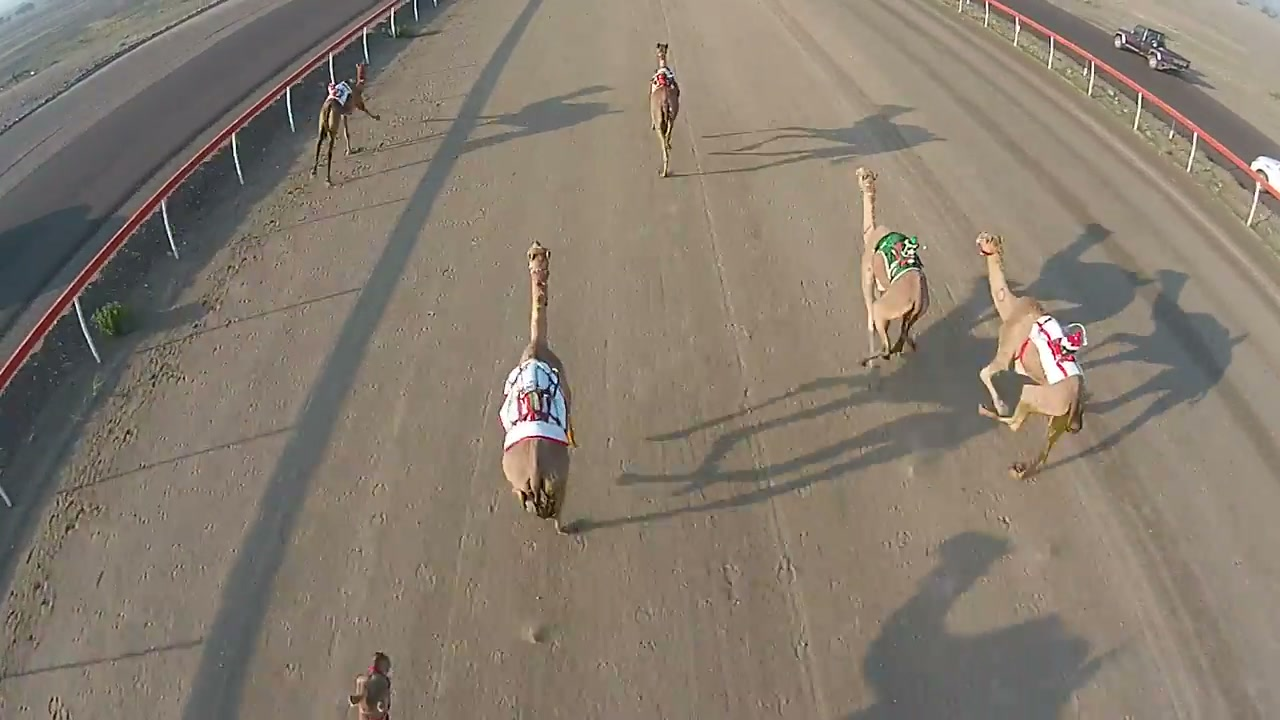animal_foot_print: (337, 362, 502, 653)
